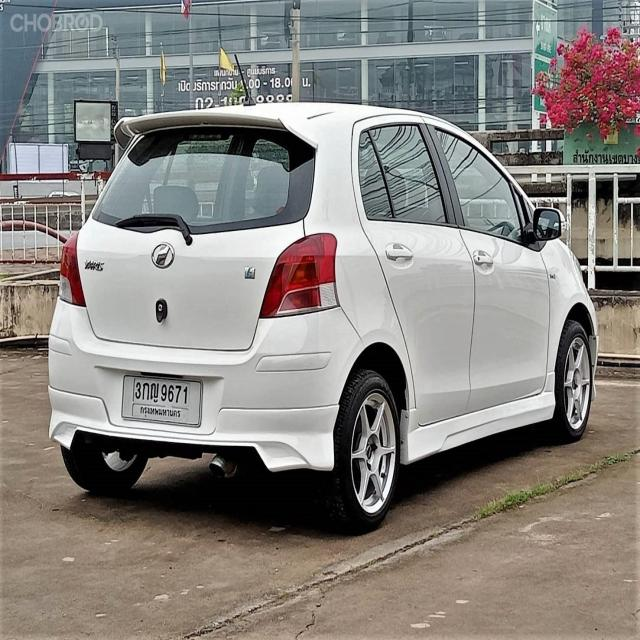license_plate: (121, 374, 204, 432)
